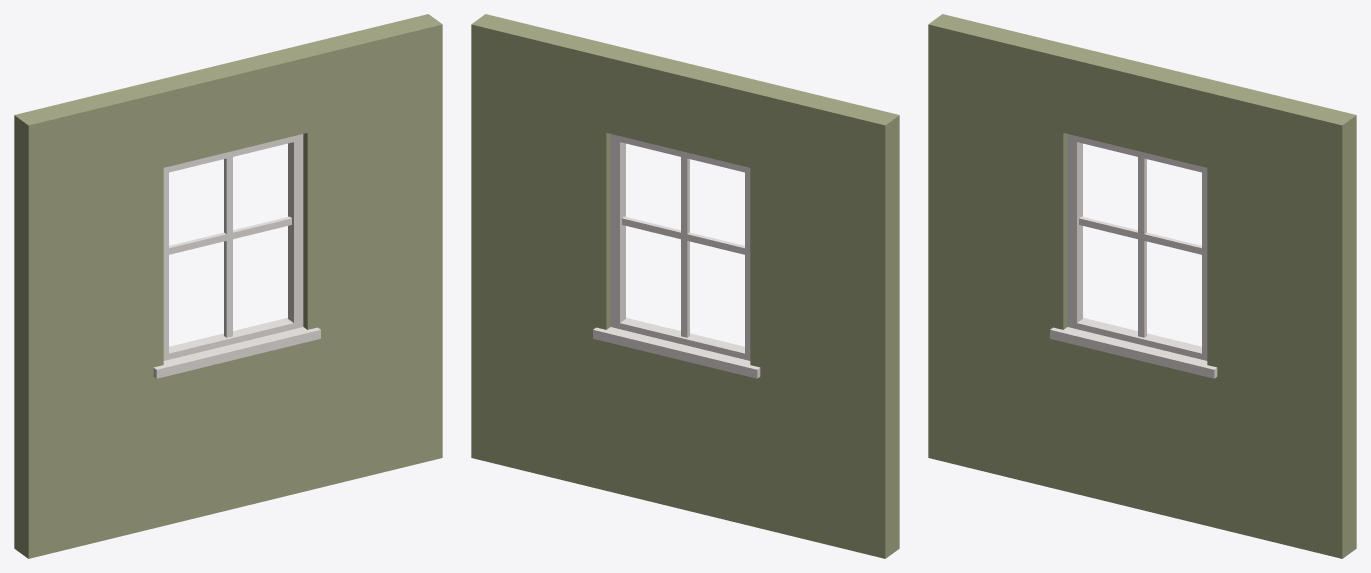
The model's file is Wall_17.fbx.
The picture shows the model from 3 angles, left to right: view 1: azimuth 30°, elevation 25°; view 2: azimuth 150°, elevation 25°; view 3: azimuth 330°, elevation 25°; orthographic projection.
Parts seen in each view (by area): view 1: Wall_17; view 2: Wall_17; view 3: Wall_17.
Boxes of the visible parts, <box> form: Wall_17: <box>14,14,442,558</box>; Wall_17: <box>471,14,899,558</box>; Wall_17: <box>928,14,1356,558</box>.
Bounding box in the file's own units: 259 × 259 × 22.34.
